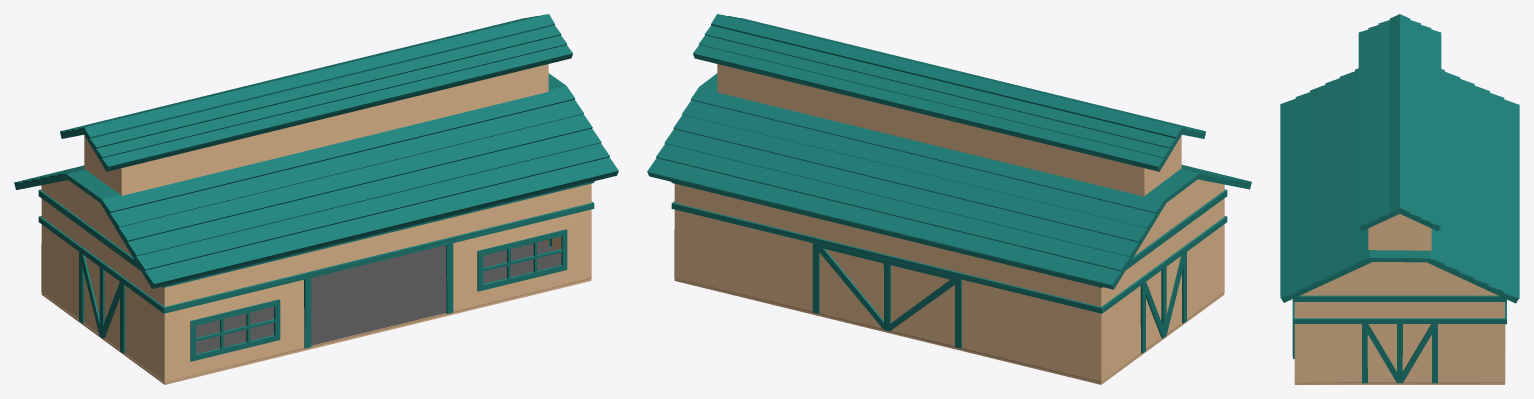
File: 061 Warehouse_5.FBX
The picture shows the model from 3 angles, left to right: view 1: azimuth 30°, elevation 25°; view 2: azimuth 150°, elevation 25°; view 3: azimuth 270°, elevation 25°; orthographic projection. The views are drawn at different scales.
Visible parts, largest first — view 1: Box109; view 2: Box109; view 3: Box109.
Boxes of the visible parts, <box> form: Box109: <box>14,14,618,384</box>; Box109: <box>647,14,1251,384</box>; Box109: <box>1280,14,1519,384</box>.
Bounding box in the file's own units: 1309 × 584 × 683.
